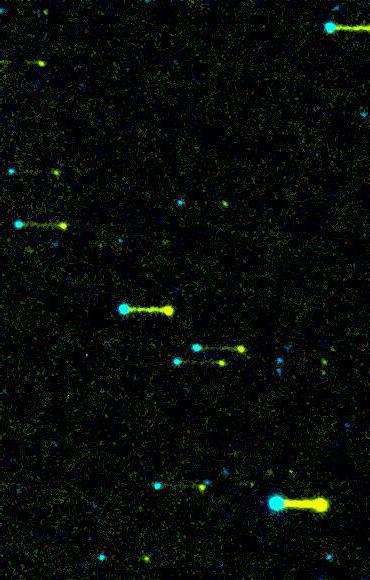star: (11, 229, 41, 259)
